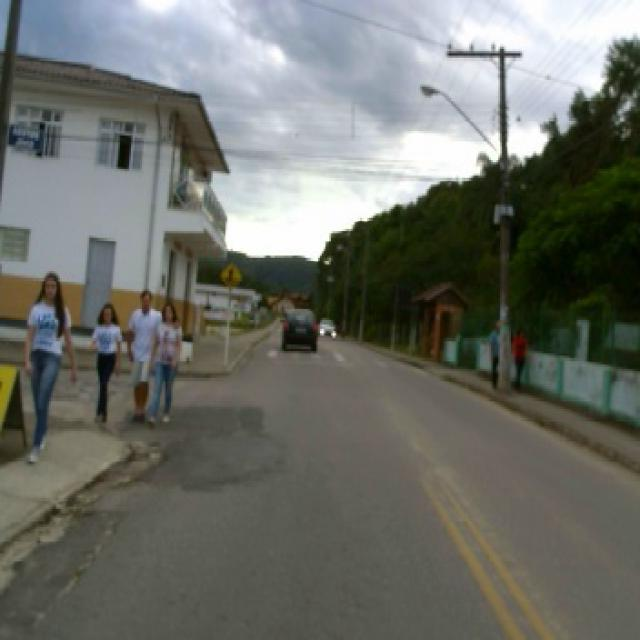Poth-hole: (31, 504, 128, 632), (3, 507, 98, 598), (84, 438, 172, 504)
